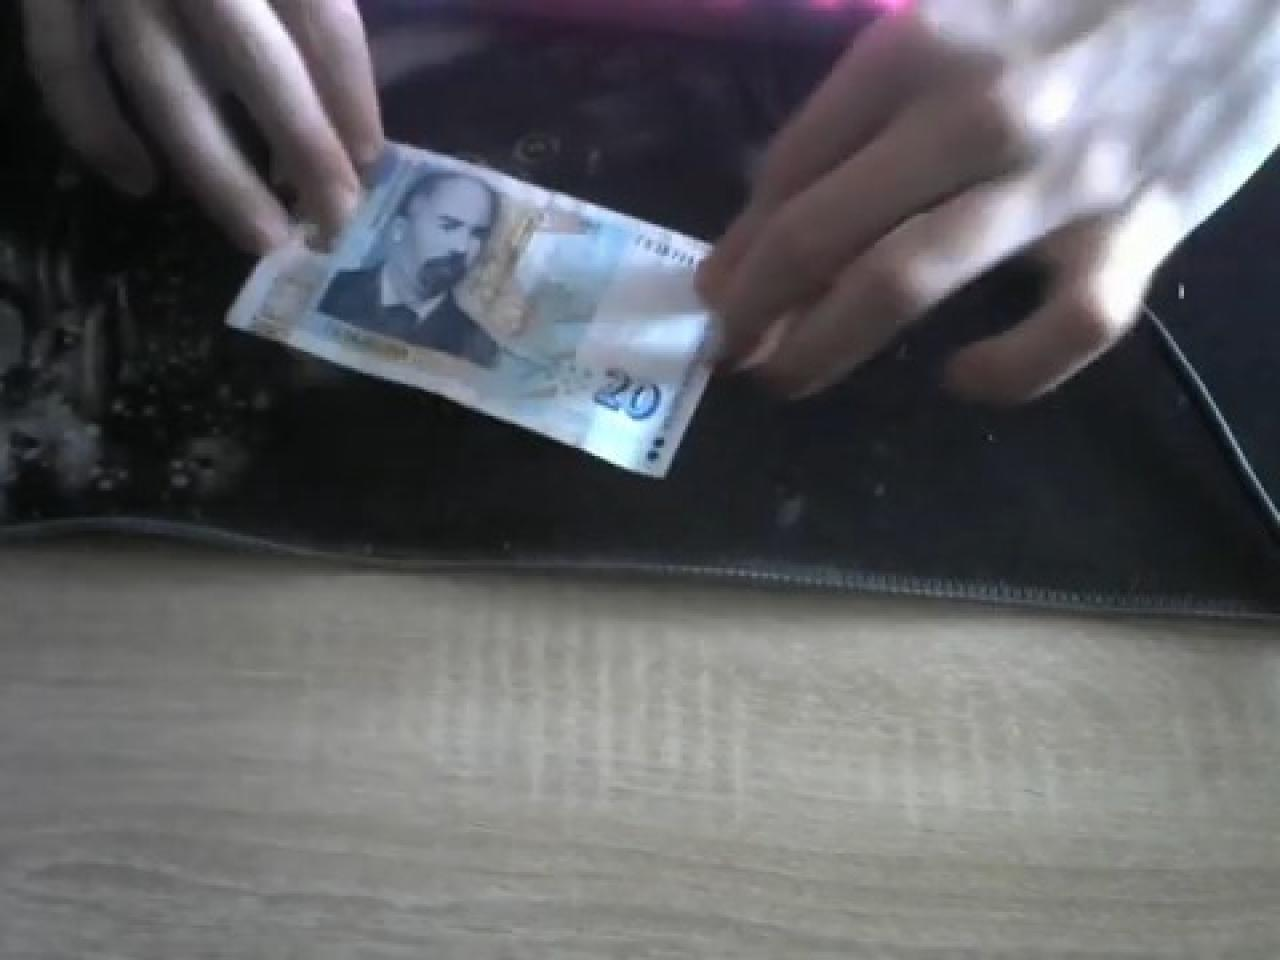20leva: (224, 144, 720, 480)
